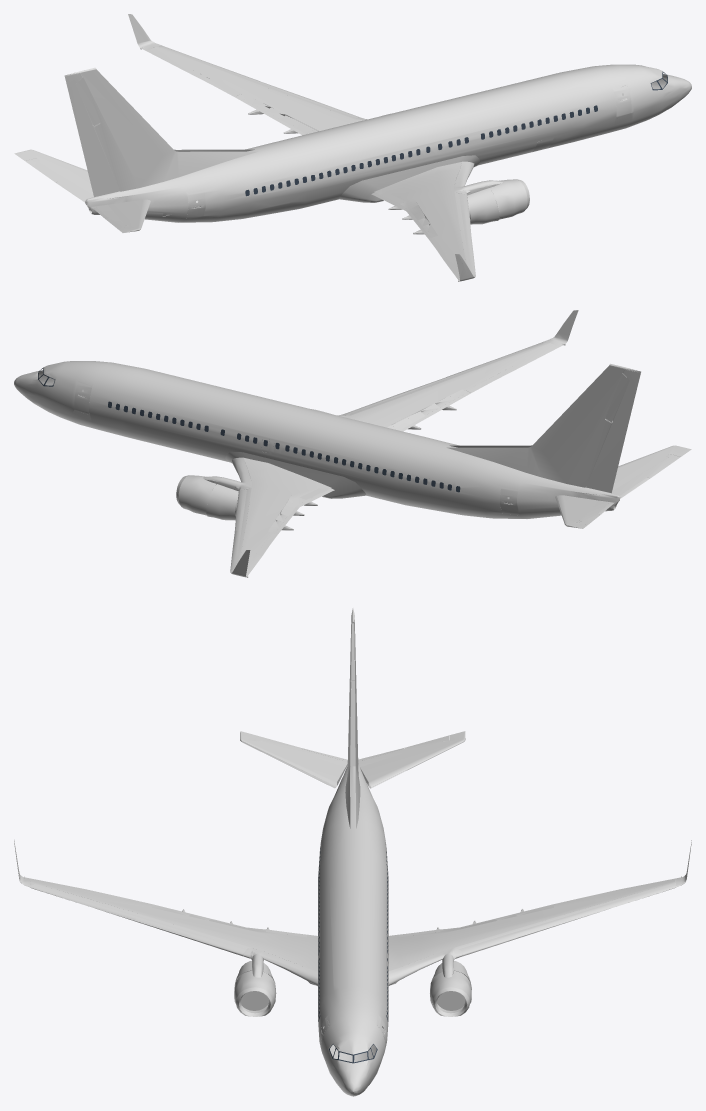
The picture shows the model from 3 angles, top to bottom: view 1: azimuth 30°, elevation 25°; view 2: azimuth 150°, elevation 25°; view 3: azimuth 270°, elevation 25°; orthographic projection. The views are drawn at different scales.
Visible parts, largest first — view 1: body, glass; view 2: body, glass; view 3: body.
Part boxes in pixels (left/top/right/bottom): body: left=14, top=14, right=691, bottom=281; glass: left=245, top=71, right=667, bottom=196; body: left=14, top=310, right=691, bottom=577; glass: left=38, top=368, right=460, bottom=492; body: left=14, top=608, right=691, bottom=1096.
Size of the model in its own units: 2.2 by 0.6761 by 1.99.
